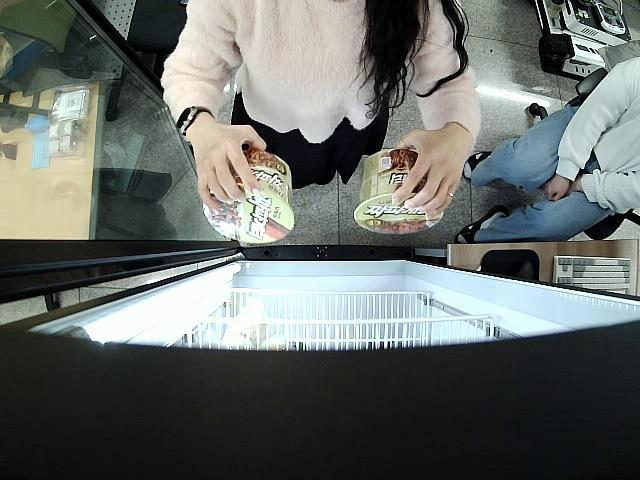03_chapagetti_L: (204, 149, 296, 246), (354, 150, 446, 236)
